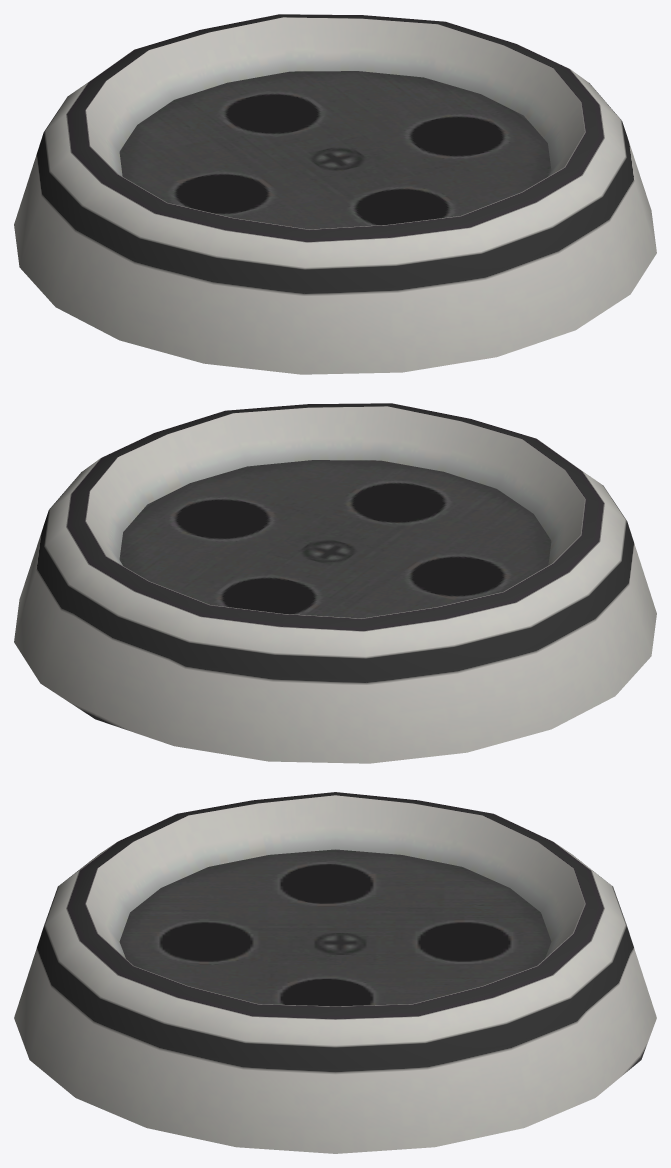
Rendered from nt_electrical_outlet_LOD0.obj.
The picture shows the model from 3 angles, top to bottom: view 1: azimuth 30°, elevation 25°; view 2: azimuth 150°, elevation 25°; view 3: azimuth 270°, elevation 25°; orthographic projection.
Parts seen in each view (by area): view 1: mtl_nt_electrical_oulet; view 2: mtl_nt_electrical_oulet; view 3: mtl_nt_electrical_oulet.
Boxes of the visible parts, left/top/right/bottom form: mtl_nt_electrical_oulet: left=14, top=14, right=656, bottom=374; mtl_nt_electrical_oulet: left=14, top=403, right=656, bottom=763; mtl_nt_electrical_oulet: left=14, top=792, right=656, bottom=1153.
Bounding box in the file's own units: 14.37 × 2.89 × 14.36.
